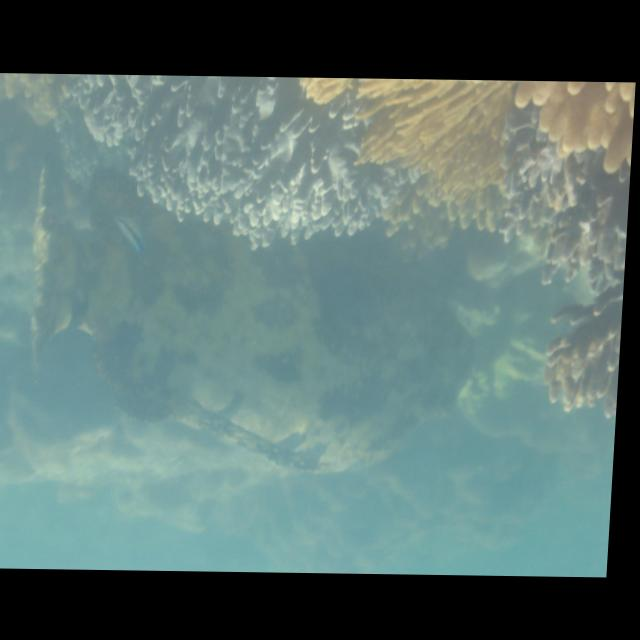Groupers: (9, 143, 486, 481)
